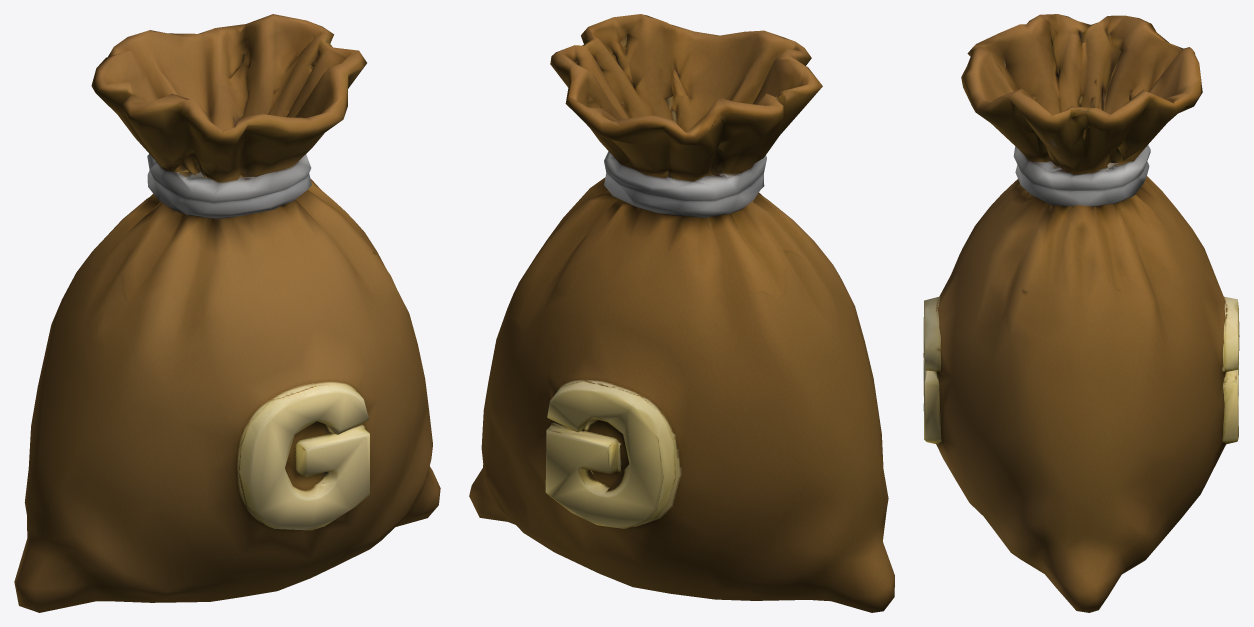
Rendered from Money.fbx.
3 views of the same model, side by side, from view 1: azimuth 30°, elevation 25°; view 2: azimuth 150°, elevation 25°; view 3: azimuth 270°, elevation 25° (orthographic). The views are drawn at different scales.
Visible parts, largest first — view 1: material_0; view 2: material_0; view 3: material_0.
Boxes of the visible parts, x1,y1,x2,y2 form: material_0: (14, 14, 440, 612); material_0: (469, 14, 894, 612); material_0: (923, 14, 1239, 612).
Bounding box in the file's own units: 83.94 × 100 × 59.45.
Materials: 1 (1 with a texture image).
